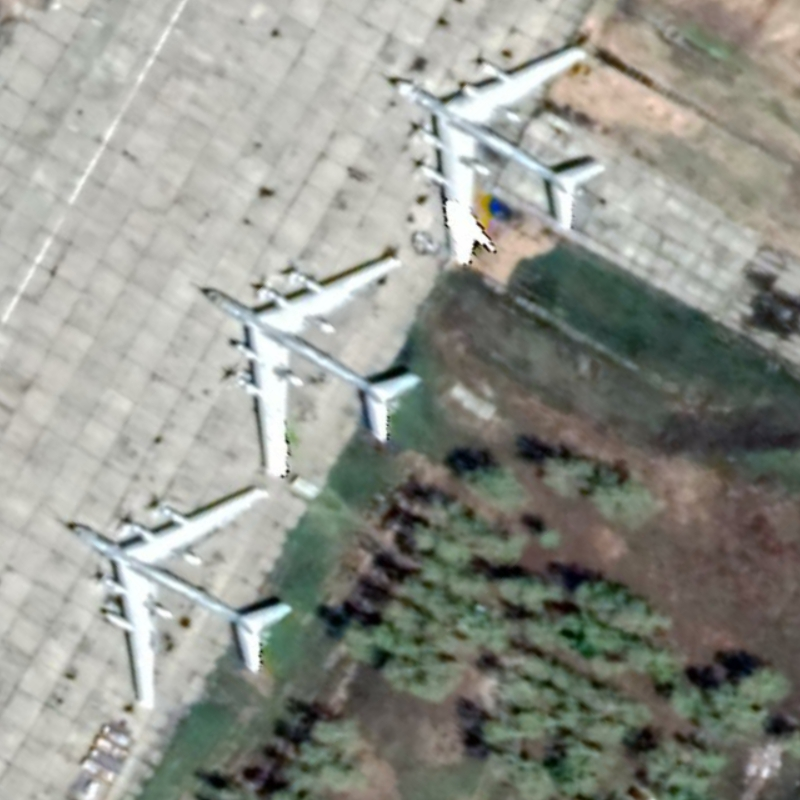A17: (63, 482, 297, 714), (199, 252, 426, 479), (392, 42, 611, 270)
